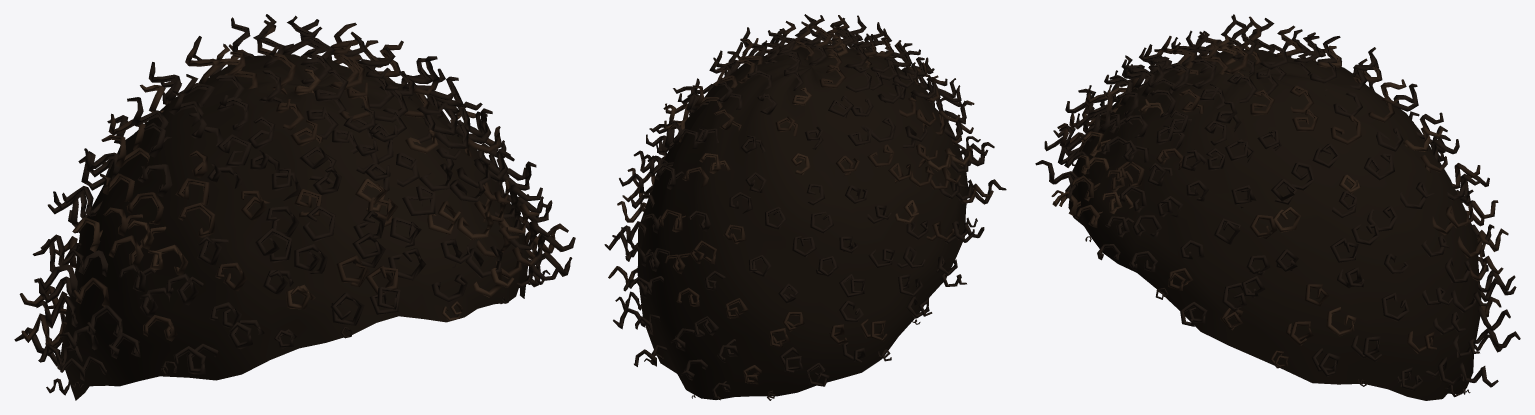
File: curl-crop-far.glb
3 renders of one model, left to right at view 1: azimuth 30°, elevation 25°; view 2: azimuth 150°, elevation 25°; view 3: azimuth 270°, elevation 25°, orthographic. The views are drawn at different scales.
Visible parts, largest first — view 1: C01 scalp foundation - far, C01 tight curl crop - far; view 2: C01 scalp foundation - far, C01 tight curl crop - far; view 3: C01 scalp foundation - far, C01 tight curl crop - far.
Part boxes in pixels (x1,y1,x2,y2): C01 scalp foundation - far: (60,54,528,400); C01 tight curl crop - far: (14,14,575,395); C01 scalp foundation - far: (637,41,968,399); C01 tight curl crop - far: (604,14,1006,400); C01 scalp foundation - far: (1068,49,1481,400); C01 tight curl crop - far: (1035,14,1520,397).
Bounding box in the file's own units: 0.2041 × 0.1789 × 0.2256.
